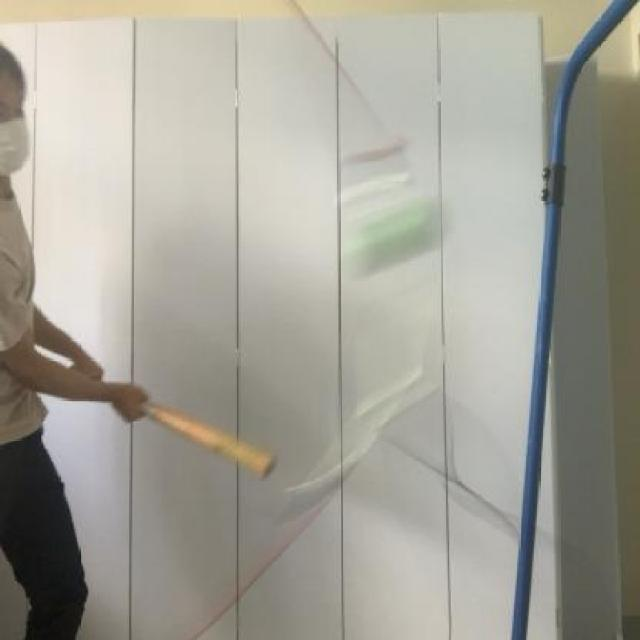baseball: (334, 184, 452, 279)
